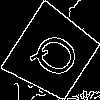Q: (27, 28, 90, 87)
